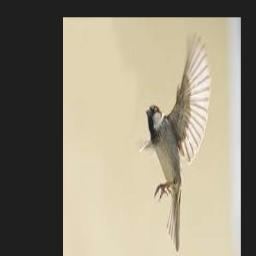Sparrow: (139, 29, 210, 251)
